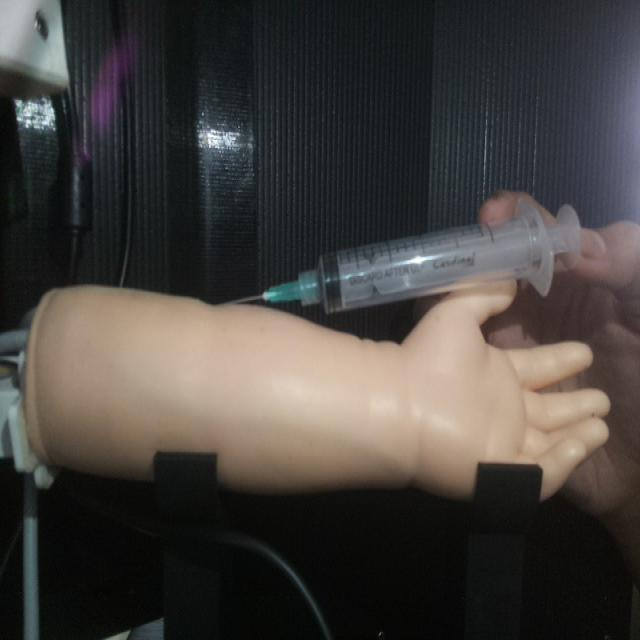Below 15 degrees: (227, 197, 584, 316)
